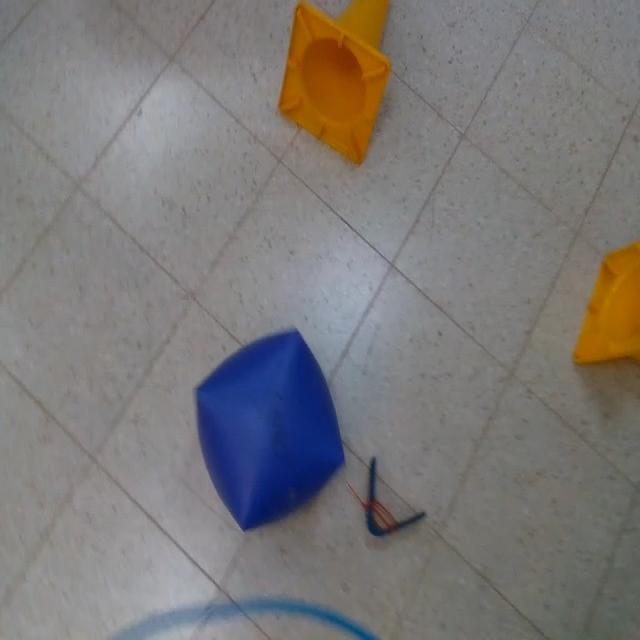cone: (276, 0, 394, 168), (571, 238, 640, 372)
cube: (194, 327, 346, 533)
